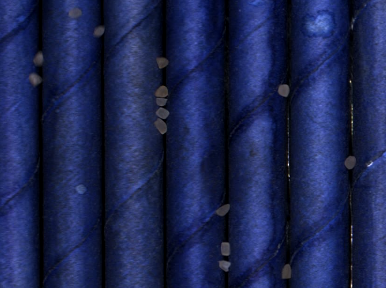broken_grain: (152, 117, 169, 136), (214, 202, 231, 219), (280, 261, 293, 280), (342, 154, 357, 170), (67, 6, 82, 21), (154, 56, 170, 70), (278, 81, 291, 98), (154, 106, 170, 119), (219, 240, 231, 257), (92, 25, 106, 39), (154, 97, 168, 108)
milky_broken_grain: (26, 73, 43, 88), (31, 52, 45, 67), (218, 258, 230, 273)
yellow_grain: (154, 84, 169, 100)
